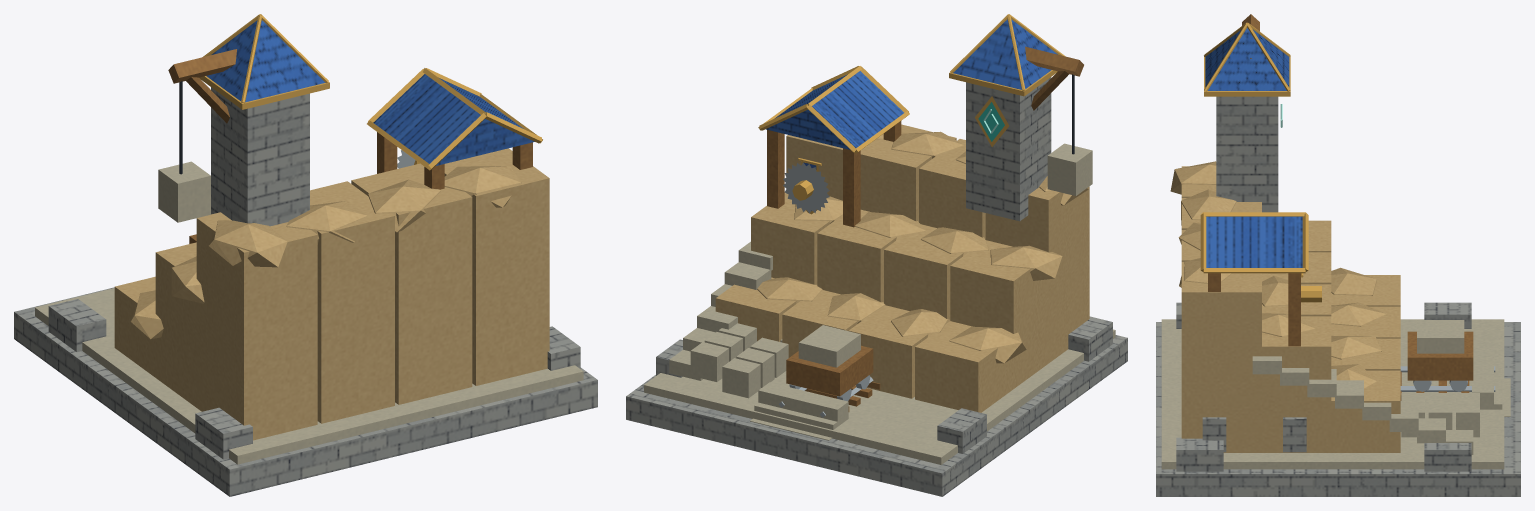
Rendered from Quarry_3.fbx.
The picture shows the model from 3 angles, left to right: view 1: azimuth 30°, elevation 25°; view 2: azimuth 150°, elevation 25°; view 3: azimuth 270°, elevation 25°; orthographic projection. The views are drawn at different scales.
Parts seen in each view (by area): view 1: Quarry_3; view 2: Quarry_3; view 3: Quarry_3.
Boxes of the visible parts, x1,y1,x2,y2 form: Quarry_3: [14, 14, 597, 496]; Quarry_3: [626, 14, 1127, 496]; Quarry_3: [1156, 14, 1520, 496].
Bounding box in the file's own units: 1 × 1.08 × 1.
1 material, 1 textured.
